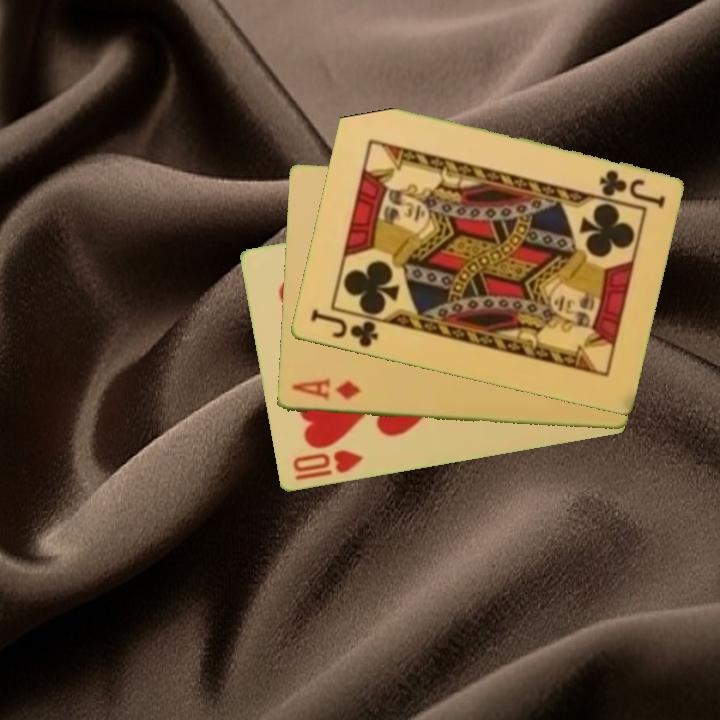10h: (288, 447, 366, 484)
Ad: (288, 375, 364, 404)
Jc: (306, 306, 381, 351), (595, 166, 668, 210)
